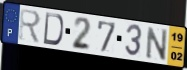2: (72, 17, 93, 52)
3: (123, 23, 144, 59)
7: (96, 20, 118, 53)
D: (42, 12, 65, 47)
N: (146, 26, 169, 62)
R: (18, 8, 43, 46)
